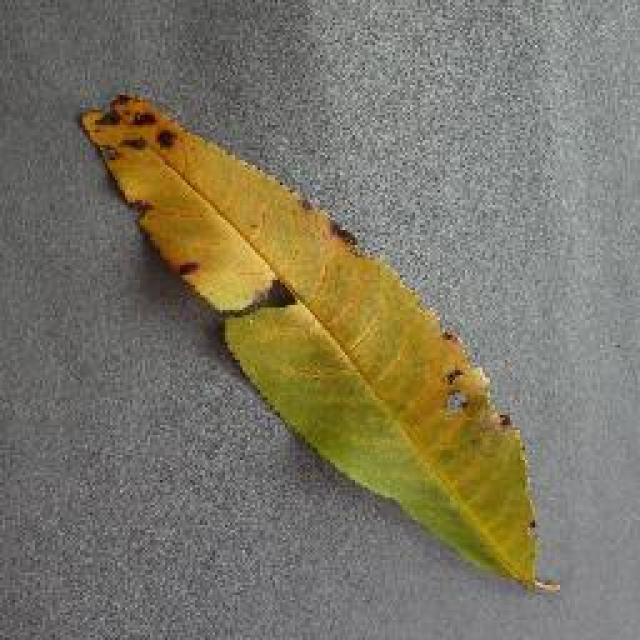Peach_Bacterial_Spot: (113, 107, 410, 370)
